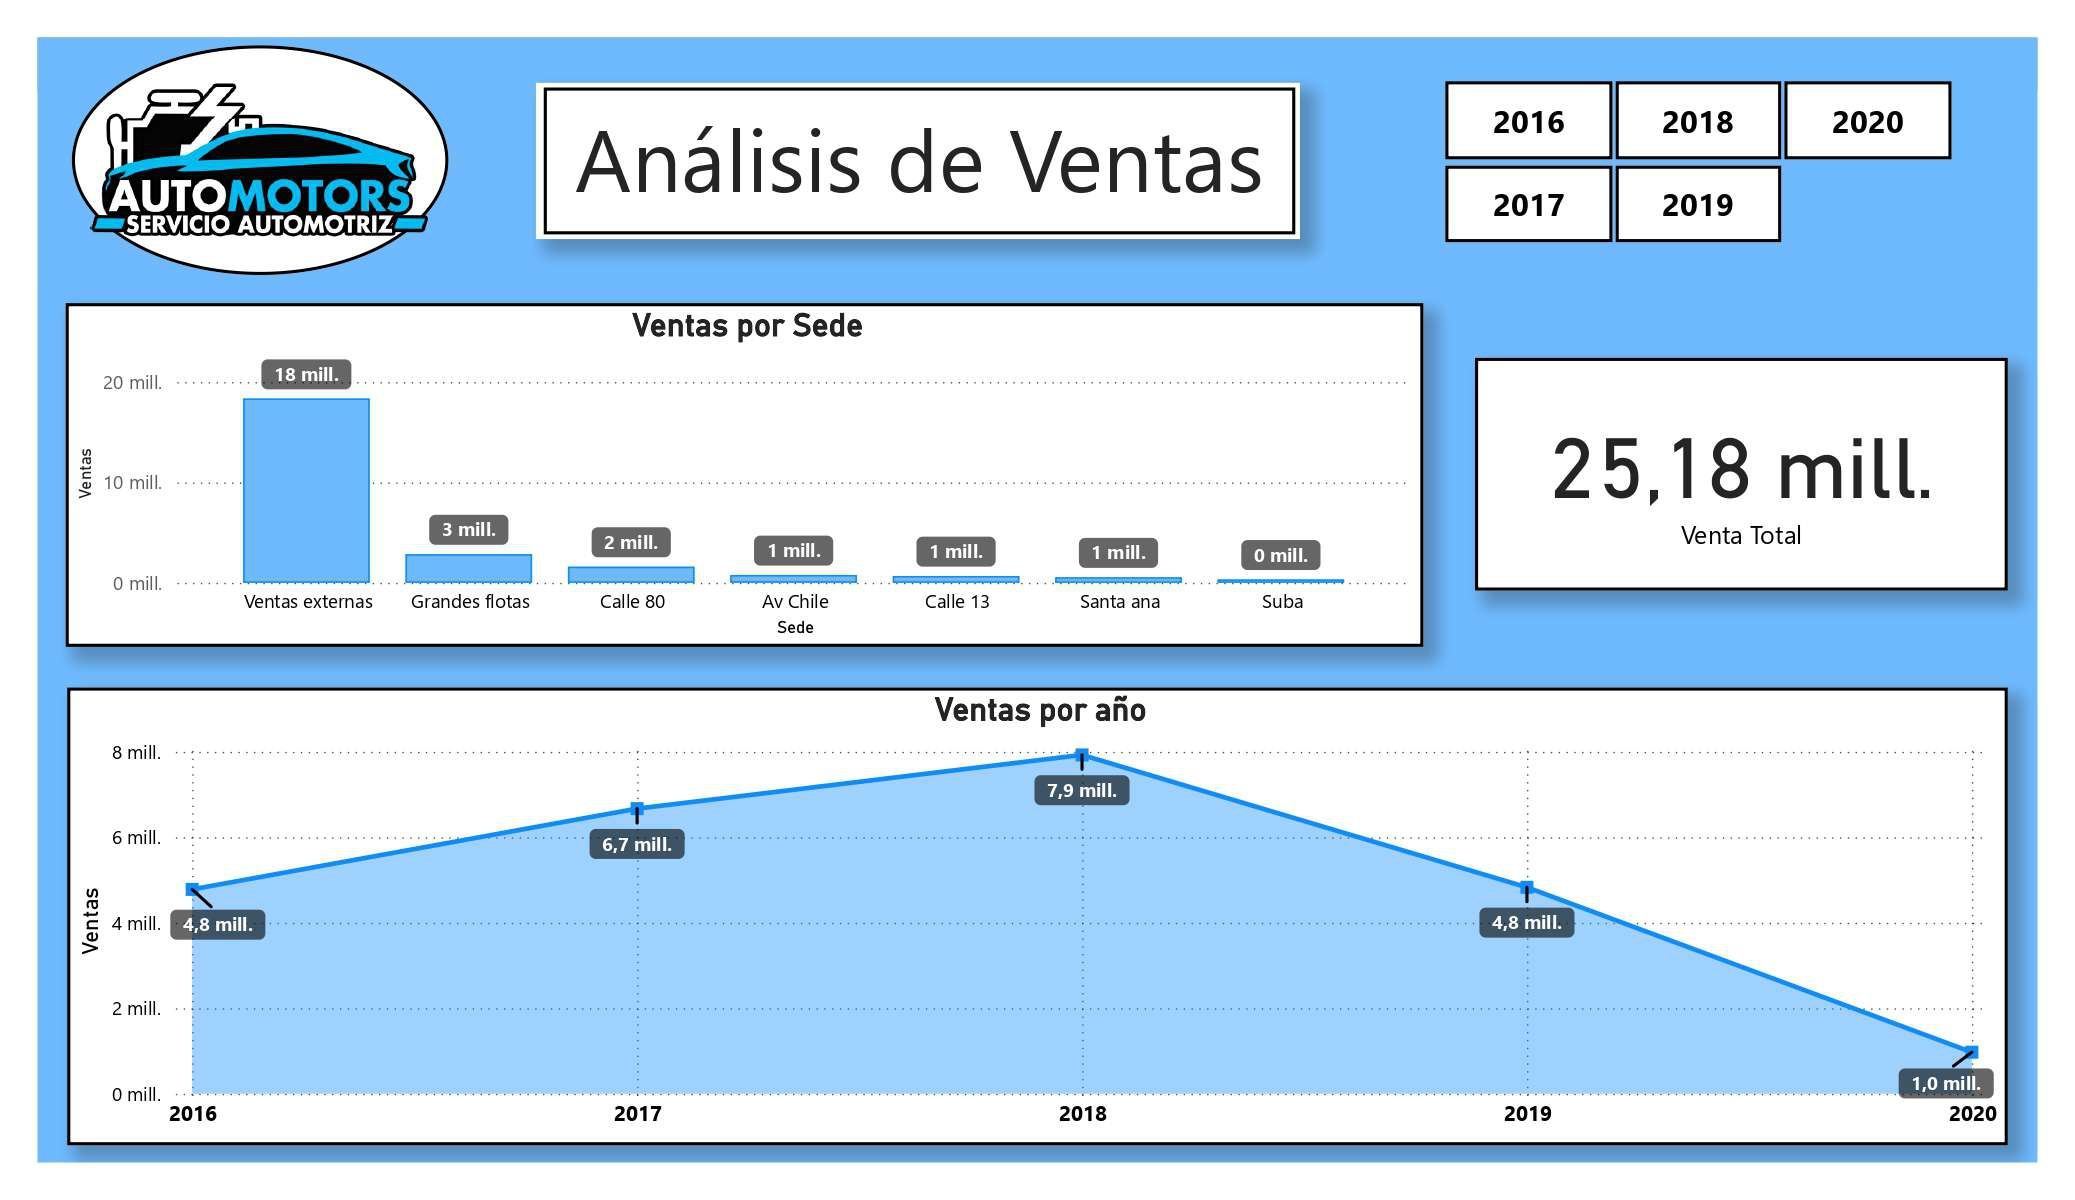

The page's visual inventory and layout, read from the dashboard file:
{"tool":"powerbi","page":{"name":"Ventas","canvas":[1280,720],"ordinal":0},"visuals":[{"type":"card","fields":{"Values":["Sum(Ventas2.Ventas en USD)"]},"box":[920.5,205.3,340.4,149.2],"z":0},{"type":"lineChart","title":"Ventas por año","fields":{"Y":["Sum(Ventas2.Ventas en USD)"],"Category":["Ventas2.Año"]},"box":[19.1,415.6,1241.8,293.2],"z":1000},{"type":"clusteredColumnChart","title":"Ventas por Sede","fields":{"Category":["Ventas2.Sede"],"Y":["Sum(Ventas2.Ventas en USD)"]},"box":[18.4,170,868.1,220.5],"z":2000},{"type":"slicer","fields":{"Values":["Ventas2.Año"]},"box":[874.8,20.7,373.8,117.7],"z":3000},{"type":"shape","box":[319,29.1,489.5,99.8],"z":4000},{"type":"textbox","box":[324.5,31.8,480.4,93.8],"z":5000},{"type":"shape","box":[21.7,5.1,241,146.6],"z":6000},{"type":"image","box":[18.4,19.9,248,117.9],"z":7000}]}

Visuals, with their boxes on the page's 1280x720 design canvas (x1, y1, x2, y2). These are canvas units, not pixel positions in the 2075x1200 screenshot, which may show the page scaled, cropped or inside an application window:
card - Sum(Ventas2.Ventas en USD): 920/205/1261/354
"Ventas por año" lineChart: 19/416/1261/709
"Ventas por Sede" clusteredColumnChart: 18/170/886/390
slicer - Ventas2.Año: 875/21/1249/138
shape: 319/29/808/129
textbox: 324/32/805/126
shape: 22/5/263/152
image: 18/20/266/138
